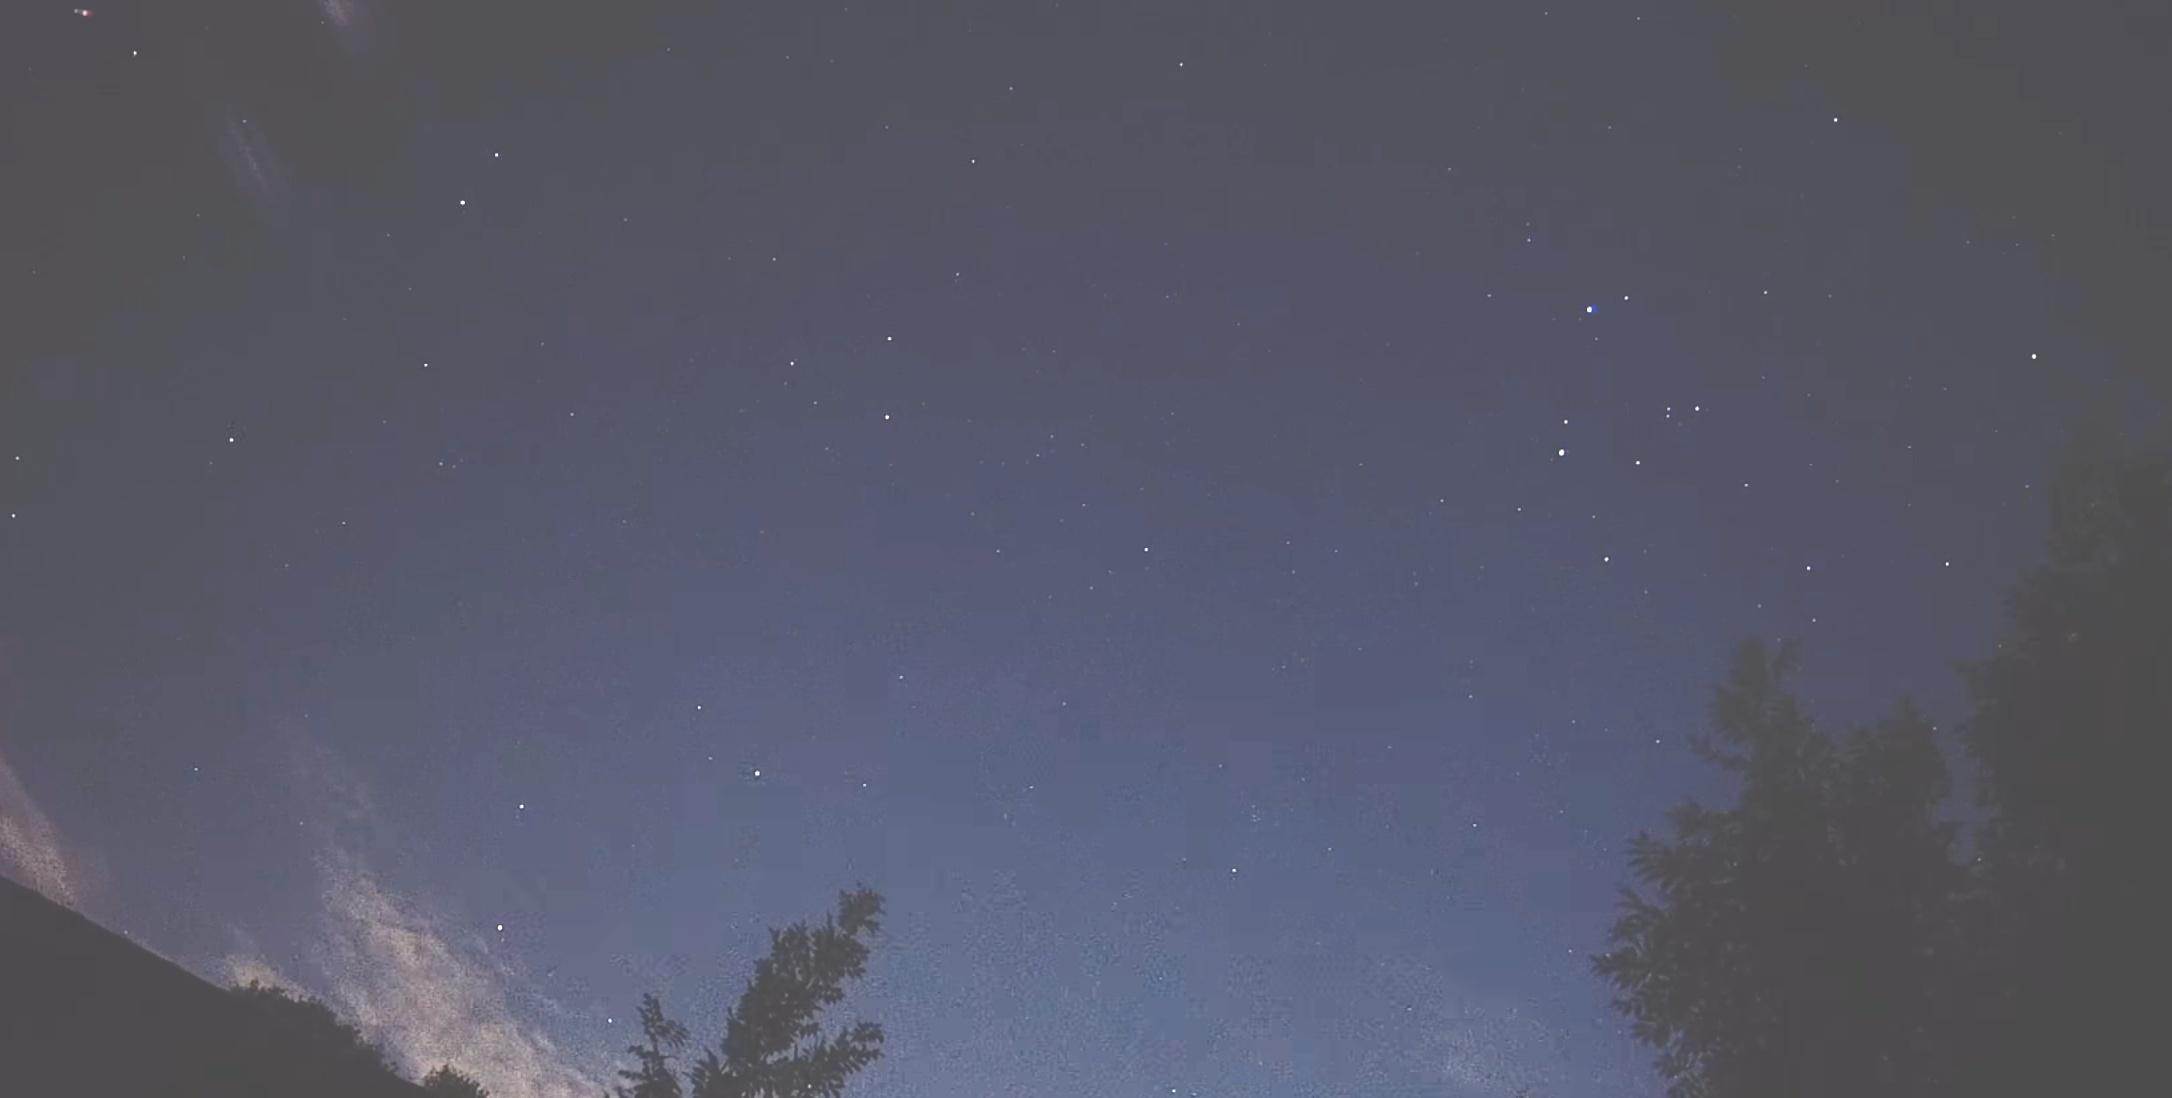Plane: (46, 0, 132, 31)
